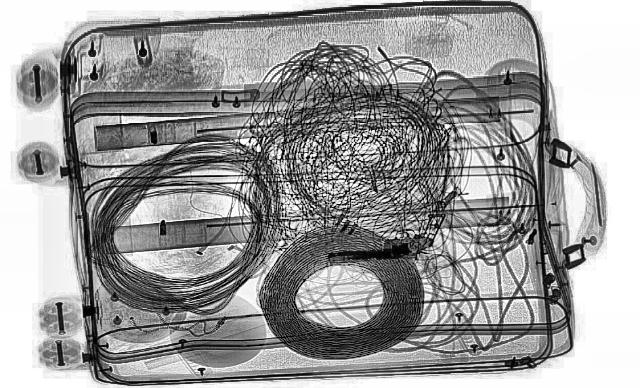Gun: (314, 213, 464, 272)
